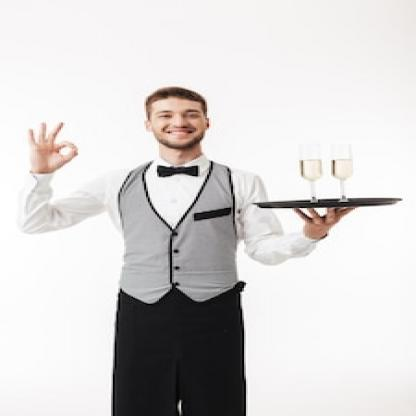ok: (21, 119, 82, 176)
